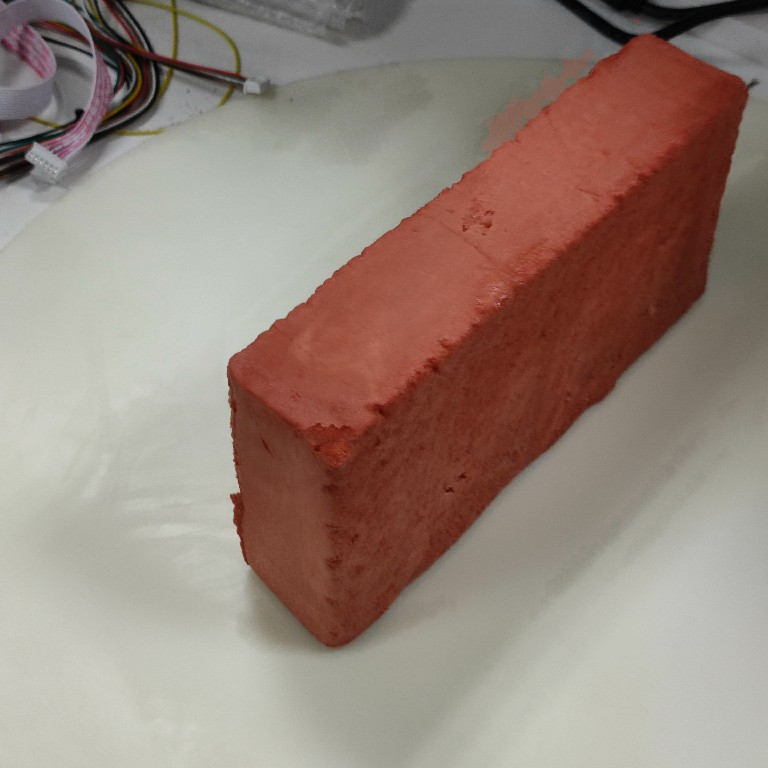brick: (220, 26, 750, 657)
